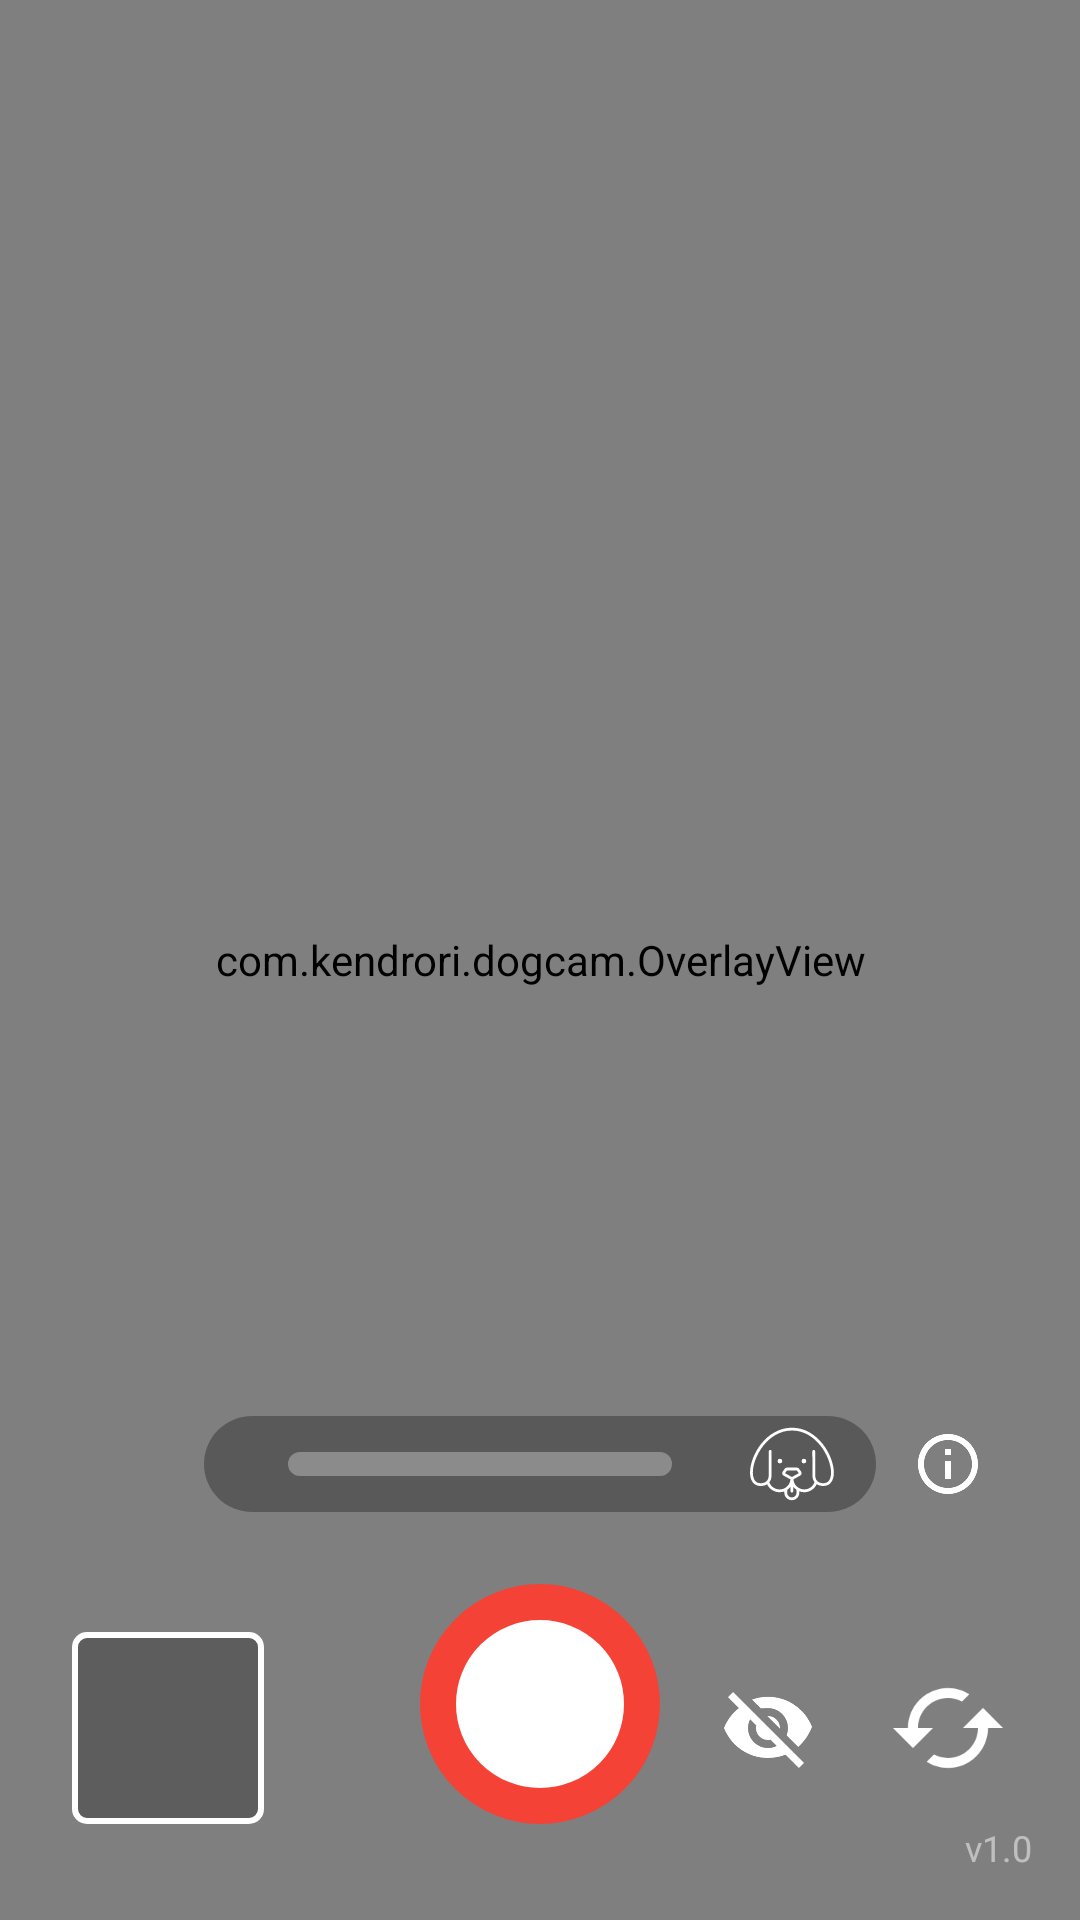

Icons on this 1080*1920 Android screen, each with its box as [x1,y1,x2,y2]:
About DogCam: [918,1434,978,1494]
Flip camera: [893,1688,1003,1768]
Switch between dog and cat mode: [750,1427,834,1501]
Toggle detection boxes: [724,1692,812,1768]
